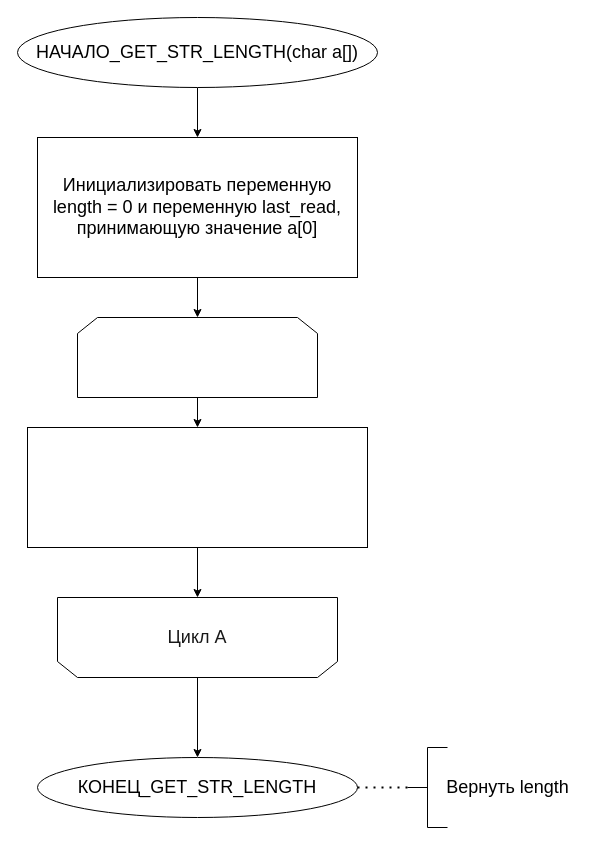
The diagram is 595 pixels wide and 846 high, and some of its shapes have lost their labels. The centre of each missing label's shape, as x and y in pixels:
"Увеличить length на 1 Присвоить last_read значение a[length]" goes at (197,487).
"Цикл А: пока last_read не равен '\0'" goes at (197,357).
